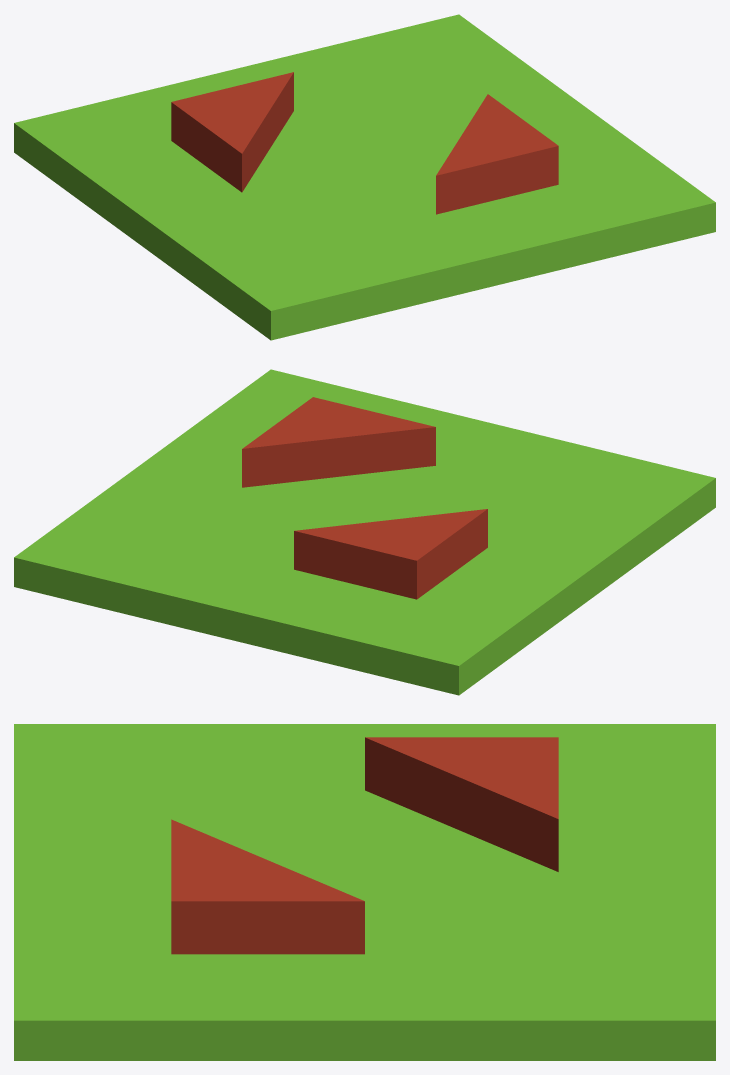
The model's file is Obstacle_triangle_01.obj.
3 renders of one model, top to bottom at view 1: azimuth 30°, elevation 25°; view 2: azimuth 150°, elevation 25°; view 3: azimuth 270°, elevation 25°, orthographic. The views are drawn at different scales.
Parts seen in each view (by area): view 1: Mesh1_Obstacle_triangle_Model; view 2: Mesh1_Obstacle_triangle_Model; view 3: Mesh1_Obstacle_triangle_Model.
Part boxes in pixels (left/top/right/bottom): Mesh1_Obstacle_triangle_Model: left=14, top=14, right=715, bottom=340; Mesh1_Obstacle_triangle_Model: left=14, top=369, right=715, bottom=695; Mesh1_Obstacle_triangle_Model: left=14, top=724, right=715, bottom=1060.
Bounding box in the file's own units: 3 × 0.44 × 3.
